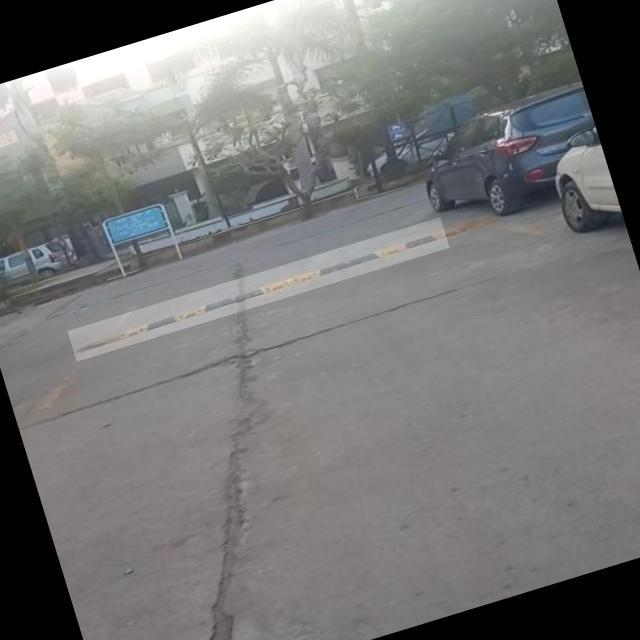speedbreaker: (68, 216, 450, 362)
